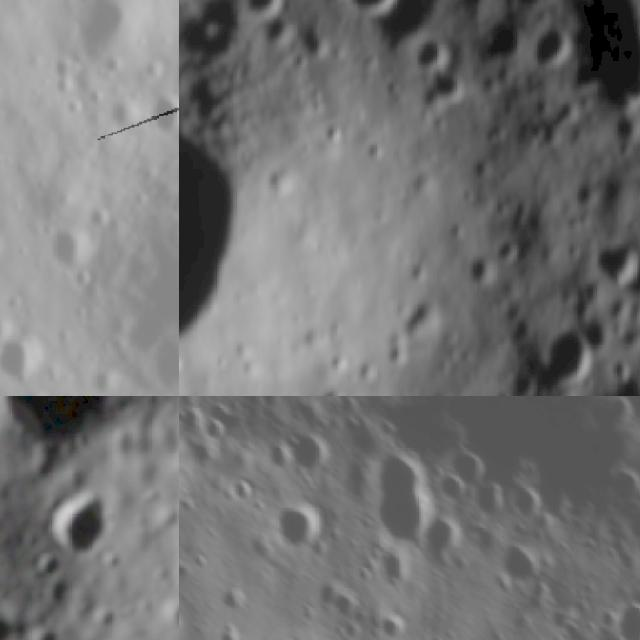crater: (0, 396, 135, 465), (360, 453, 438, 548), (123, 238, 179, 343), (67, 0, 146, 69), (55, 482, 109, 580), (543, 319, 603, 395), (487, 530, 552, 596), (0, 321, 53, 395), (263, 504, 331, 554), (41, 221, 100, 276), (398, 287, 443, 354), (591, 232, 640, 293), (418, 518, 470, 575), (397, 30, 461, 74), (285, 431, 333, 484), (526, 24, 577, 73), (139, 335, 179, 396), (138, 89, 179, 146), (102, 91, 142, 138), (602, 592, 640, 640), (209, 582, 253, 618), (335, 0, 399, 22), (610, 70, 640, 116), (370, 612, 413, 640), (598, 353, 632, 387), (468, 243, 496, 284), (80, 200, 114, 232), (30, 554, 67, 582), (240, 0, 286, 20), (200, 418, 238, 442), (153, 503, 179, 537), (214, 621, 243, 640), (167, 592, 179, 635), (0, 228, 11, 274), (631, 530, 640, 570), (0, 312, 8, 350)
